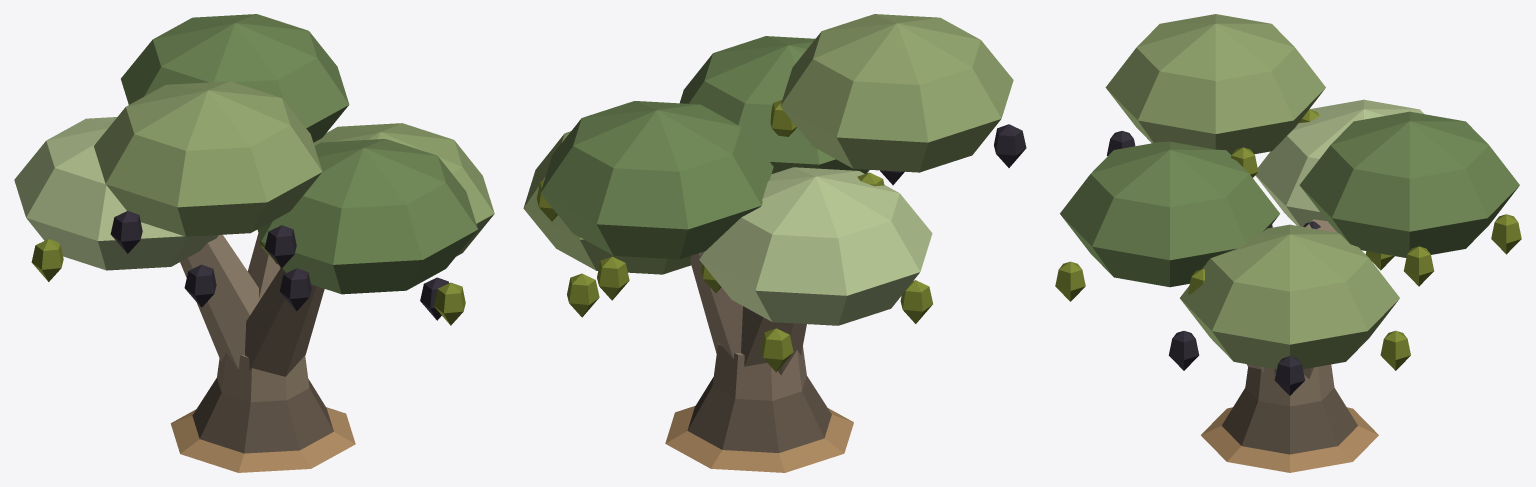
File: olive-tree-1x1.glb
The picture shows the model from 3 angles, left to right: view 1: azimuth 30°, elevation 25°; view 2: azimuth 150°, elevation 25°; view 3: azimuth 270°, elevation 25°; orthographic projection. The views are drawn at different scales.
Visible parts, largest first — view 1: olive-tree-1x1; view 2: olive-tree-1x1; view 3: olive-tree-1x1.
Boxes of the visible parts, box(x1,y1,x2,y2) form: olive-tree-1x1: box(14, 14, 494, 472); olive-tree-1x1: box(523, 14, 1026, 472); olive-tree-1x1: box(1055, 14, 1521, 472).
Bounding box in the file's own units: 0.8691 × 0.7744 × 0.8883.
1 material, 1 textured.
